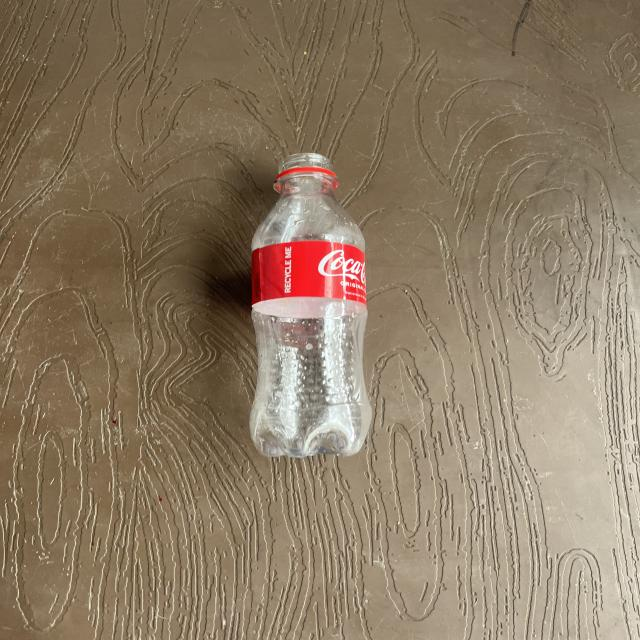REJECT: (241, 155, 381, 456)
